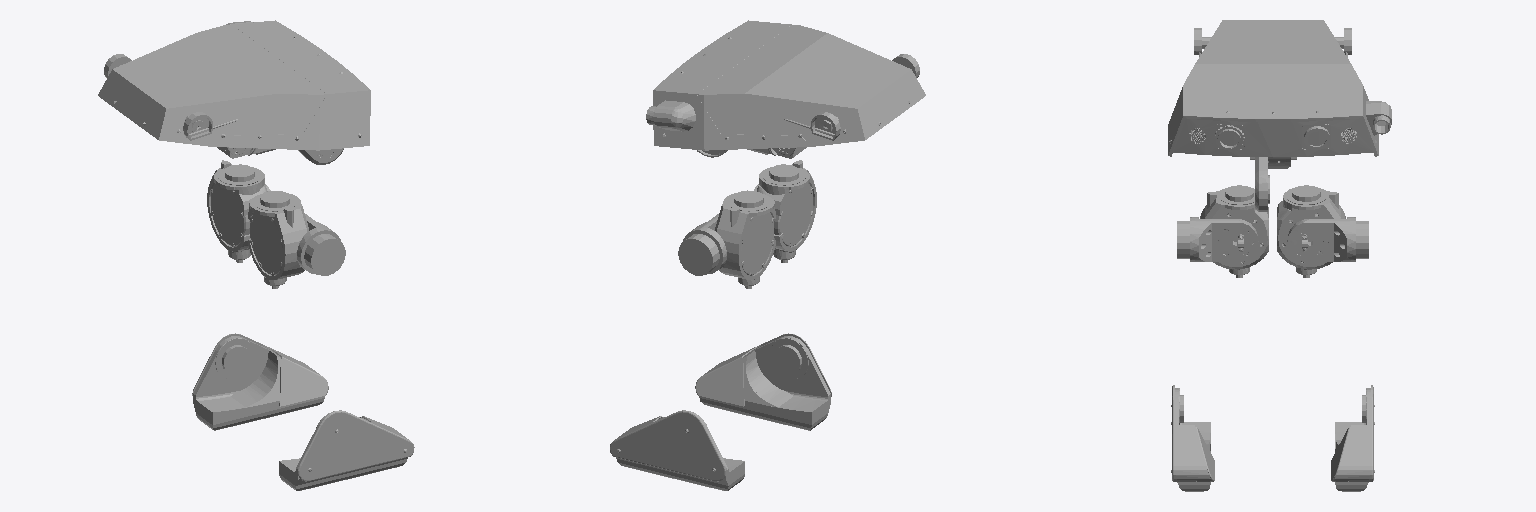
URDF robot description (BD-XURDFJointsFixed):
<?xml version="1.0" ?>
<!-- =================================================================================== -->
<!-- |    This document was autogenerated by xacro from [local-path]/Documents/Droids/BD-X/A1/dev/BD-XURDFJointsFixed_description/urdf/BD-XURDFJointsFixed.xacro | -->
<!-- |    EDITING THIS FILE BY HAND IS NOT RECOMMENDED                                 | -->
<!-- =================================================================================== -->
<robot xmlns:xacro="http://www.ros.org/wiki/xacro" name="BD-XURDFJointsFixed">
  <material name="silver">
    <color rgba="0.700 0.700 0.700 1"/>
  </material>
  <link name="body">
    <inertial>
      <origin xyz="0.0 0.0 0.0" rpy="0 0 0"/>
      <mass value="0.0"/>
      <inertia ixx="0.0" iyy="0.0" izz="0.0" ixy="0.0" iyz="0.0" ixz="0.0"/>
    </inertial>
    <visual>
      <origin xyz="0 0 0" rpy="0 0 0"/>
      <geometry>
        <mesh filename="../meshes/body.stl" scale="0.001 0.001 0.001"/>
      </geometry>
      <material name="silver"/>
    </visual>
    <collision>
      <origin xyz="0 0 0" rpy="0 0 0"/>
      <geometry>
        <mesh filename="../meshes/body.stl" scale="0.001 0.001 0.001"/>
      </geometry>
    </collision>
  </link>
  <link name="left_foot">
    <inertial>
      <origin xyz="-0.123984 0.04078 0.307694" rpy="0 0 0"/>
      <mass value="0.0"/>
      <inertia ixx="0.0" iyy="0.0" izz="0.0" ixy="0.0" iyz="0.0" ixz="0.0"/>
    </inertial>
    <visual>
      <origin xyz="-0.123984 0.04078 0.307694" rpy="0 0 0"/>
      <geometry>
        <mesh filename="../meshes/left_foot.stl" scale="0.001 0.001 0.001"/>
      </geometry>
      <material name="silver"/>
    </visual>
    <collision>
      <origin xyz="-0.123984 0.04078 0.307694" rpy="0 0 0"/>
      <geometry>
        <mesh filename="../meshes/left_foot.stl" scale="0.001 0.001 0.001"/>
      </geometry>
    </collision>
  </link>
  <link name="left_lower_leg">
    <inertial>
      <origin xyz="-0.133451 0.030006 0.170932" rpy="0 0 0"/>
      <mass value="0.0"/>
      <inertia ixx="0.0" iyy="0.0" izz="0.0" ixy="0.0" iyz="0.0" ixz="0.0"/>
    </inertial>
    <visual>
      <origin xyz="-0.133451 0.030006 0.170932" rpy="0 0 0"/>
      <geometry>
        <mesh filename="../meshes/left_lower_leg.stl" scale="0.001 0.001 0.001"/>
      </geometry>
      <material name="silver"/>
    </visual>
    <collision>
      <origin xyz="-0.133451 0.030006 0.170932" rpy="0 0 0"/>
      <geometry>
        <mesh filename="../meshes/left_lower_leg.stl" scale="0.001 0.001 0.001"/>
      </geometry>
    </collision>
  </link>
  <link name="left_upper_leg">
    <inertial>
      <origin xyz="-0.133451 0.030679 0.052423" rpy="0 0 0"/>
      <mass value="0.0"/>
      <inertia ixx="0.0" iyy="0.0" izz="0.0" ixy="0.0" iyz="0.0" ixz="0.0"/>
    </inertial>
    <visual>
      <origin xyz="-0.133451 0.030679 0.052423" rpy="0 0 0"/>
      <geometry>
        <mesh filename="../meshes/left_upper_leg.stl" scale="0.001 0.001 0.001"/>
      </geometry>
      <material name="silver"/>
    </visual>
    <collision>
      <origin xyz="-0.133451 0.030679 0.052423" rpy="0 0 0"/>
      <geometry>
        <mesh filename="../meshes/left_upper_leg.stl" scale="0.001 0.001 0.001"/>
      </geometry>
    </collision>
  </link>
  <link name="left_hip">
    <inertial>
      <origin xyz="-0.051563 0.01127 0.052423" rpy="0 0 0"/>
      <mass value="0.0"/>
      <inertia ixx="0.0" iyy="0.0" izz="0.0" ixy="0.0" iyz="0.0" ixz="0.0"/>
    </inertial>
    <visual>
      <origin xyz="-0.051563 0.01127 0.052423" rpy="0 0 0"/>
      <geometry>
        <mesh filename="../meshes/left_hip.stl" scale="0.001 0.001 0.001"/>
      </geometry>
      <material name="silver"/>
    </visual>
    <collision>
      <origin xyz="-0.051563 0.01127 0.052423" rpy="0 0 0"/>
      <geometry>
        <mesh filename="../meshes/left_hip.stl" scale="0.001 0.001 0.001"/>
      </geometry>
    </collision>
  </link>
  <link name="left_hip_rotation">
    <inertial>
      <origin xyz="-0.04661 0.0 -0.0072" rpy="0 0 0"/>
      <mass value="0.0"/>
      <inertia ixx="0.0" iyy="0.0" izz="0.0" ixy="0.0" iyz="0.0" ixz="0.0"/>
    </inertial>
    <visual>
      <origin xyz="-0.04661 0.0 -0.0072" rpy="0 0 0"/>
      <geometry>
        <mesh filename="../meshes/left_hip_rotation.stl" scale="0.001 0.001 0.001"/>
      </geometry>
      <material name="silver"/>
    </visual>
    <collision>
      <origin xyz="-0.04661 0.0 -0.0072" rpy="0 0 0"/>
      <geometry>
        <mesh filename="../meshes/left_hip_rotation.stl" scale="0.001 0.001 0.001"/>
      </geometry>
    </collision>
  </link>
  <link name="right_foot_pad">
    <inertial>
      <origin xyz="0.108832 -0.017801 0.36953" rpy="0 0 0"/>
      <mass value="0.0"/>
      <inertia ixx="0.0" iyy="0.0" izz="0.0" ixy="0.0" iyz="0.0" ixz="0.0"/>
    </inertial>
    <visual>
      <origin xyz="0.108832 -0.017801 0.36953" rpy="0 0 0"/>
      <geometry>
        <mesh filename="../meshes/right_foot_pad.stl" scale="0.001 0.001 0.001"/>
      </geometry>
      <material name="silver"/>
    </visual>
    <collision>
      <origin xyz="0.108832 -0.017801 0.36953" rpy="0 0 0"/>
      <geometry>
        <mesh filename="../meshes/right_foot_pad.stl" scale="0.001 0.001 0.001"/>
      </geometry>
    </collision>
  </link>
  <link name="right_foot">
    <inertial>
      <origin xyz="0.123858 0.040772 0.307694" rpy="0 0 0"/>
      <mass value="0.0"/>
      <inertia ixx="0.0" iyy="0.0" izz="0.0" ixy="0.0" iyz="0.0" ixz="0.0"/>
    </inertial>
    <visual>
      <origin xyz="0.123858 0.040772 0.307694" rpy="0 0 0"/>
      <geometry>
        <mesh filename="../meshes/right_foot.stl" scale="0.001 0.001 0.001"/>
      </geometry>
      <material name="silver"/>
    </visual>
    <collision>
      <origin xyz="0.123858 0.040772 0.307694" rpy="0 0 0"/>
      <geometry>
        <mesh filename="../meshes/right_foot.stl" scale="0.001 0.001 0.001"/>
      </geometry>
    </collision>
  </link>
  <link name="right_lower_leg">
    <inertial>
      <origin xyz="0.133325 0.029997 0.170933" rpy="0 0 0"/>
      <mass value="0.0"/>
      <inertia ixx="0.0" iyy="0.0" izz="0.0" ixy="0.0" iyz="0.0" ixz="0.0"/>
    </inertial>
    <visual>
      <origin xyz="0.133325 0.029997 0.170933" rpy="0 0 0"/>
      <geometry>
        <mesh filename="../meshes/right_lower_leg.stl" scale="0.001 0.001 0.001"/>
      </geometry>
      <material name="silver"/>
    </visual>
    <collision>
      <origin xyz="0.133325 0.029997 0.170933" rpy="0 0 0"/>
      <geometry>
        <mesh filename="../meshes/right_lower_leg.stl" scale="0.001 0.001 0.001"/>
      </geometry>
    </collision>
  </link>
  <link name="right_upper_leg">
    <inertial>
      <origin xyz="0.133325 0.030671 0.052423" rpy="0 0 0"/>
      <mass value="0.0"/>
      <inertia ixx="0.0" iyy="0.0" izz="0.0" ixy="0.0" iyz="0.0" ixz="0.0"/>
    </inertial>
    <visual>
      <origin xyz="0.133325 0.030671 0.052423" rpy="0 0 0"/>
      <geometry>
        <mesh filename="../meshes/right_upper_leg.stl" scale="0.001 0.001 0.001"/>
      </geometry>
      <material name="silver"/>
    </visual>
    <collision>
      <origin xyz="0.133325 0.030671 0.052423" rpy="0 0 0"/>
      <geometry>
        <mesh filename="../meshes/right_upper_leg.stl" scale="0.001 0.001 0.001"/>
      </geometry>
    </collision>
  </link>
  <link name="right_hip_rotation">
    <inertial>
      <origin xyz="0.046484 -9e-06 -0.0072" rpy="0 0 0"/>
      <mass value="0.0"/>
      <inertia ixx="0.0" iyy="0.0" izz="0.0" ixy="0.0" iyz="0.0" ixz="0.0"/>
    </inertial>
    <visual>
      <origin xyz="0.046484 -9e-06 -0.0072" rpy="0 0 0"/>
      <geometry>
        <mesh filename="../meshes/right_hip_rotation.stl" scale="0.001 0.001 0.001"/>
      </geometry>
      <material name="silver"/>
    </visual>
    <collision>
      <origin xyz="0.046484 -9e-06 -0.0072" rpy="0 0 0"/>
      <geometry>
        <mesh filename="../meshes/right_hip_rotation.stl" scale="0.001 0.001 0.001"/>
      </geometry>
    </collision>
  </link>
  <link name="head">
    <inertial>
      <origin xyz="-0.000399 0.011817 -0.119918" rpy="0 0 0"/>
      <mass value="0.0"/>
      <inertia ixx="0.0" iyy="0.0" izz="0.0" ixy="0.0" iyz="0.0" ixz="0.0"/>
    </inertial>
    <visual>
      <origin xyz="-0.000399 0.011817 -0.119918" rpy="0 0 0"/>
      <geometry>
        <mesh filename="../meshes/head.stl" scale="0.001 0.001 0.001"/>
      </geometry>
      <material name="silver"/>
    </visual>
    <collision>
      <origin xyz="-0.000399 0.011817 -0.119918" rpy="0 0 0"/>
      <geometry>
        <mesh filename="../meshes/head.stl" scale="0.001 0.001 0.001"/>
      </geometry>
    </collision>
  </link>
  <link name="neck_yaw">
    <inertial>
      <origin xyz="-0.000409 -0.042623 -0.113535" rpy="0 0 0"/>
      <mass value="0.0"/>
      <inertia ixx="0.0" iyy="0.0" izz="0.0" ixy="0.0" iyz="0.0" ixz="0.0"/>
    </inertial>
    <visual>
      <origin xyz="-0.000409 -0.042623 -0.113535" rpy="0 0 0"/>
      <geometry>
        <mesh filename="../meshes/neck_yaw.stl" scale="0.001 0.001 0.001"/>
      </geometry>
      <material name="silver"/>
    </visual>
    <collision>
      <origin xyz="-0.000409 -0.042623 -0.113535" rpy="0 0 0"/>
      <geometry>
        <mesh filename="../meshes/neck_yaw.stl" scale="0.001 0.001 0.001"/>
      </geometry>
    </collision>
  </link>
  <link name="neck_pitch">
    <inertial>
      <origin xyz="-0.000516 -0.039802 -0.081652" rpy="0 0 0"/>
      <mass value="0.0"/>
      <inertia ixx="0.0" iyy="0.0" izz="0.0" ixy="0.0" iyz="0.0" ixz="0.0"/>
    </inertial>
    <visual>
      <origin xyz="-0.000516 -0.039802 -0.081652" rpy="0 0 0"/>
      <geometry>
        <mesh filename="../meshes/neck_pitch.stl" scale="0.001 0.001 0.001"/>
      </geometry>
      <material name="silver"/>
    </visual>
    <collision>
      <origin xyz="-0.000516 -0.039802 -0.081652" rpy="0 0 0"/>
      <geometry>
        <mesh filename="../meshes/neck_pitch.stl" scale="0.001 0.001 0.001"/>
      </geometry>
    </collision>
  </link>
  <link name="neck_extension">
    <inertial>
      <origin xyz="0.00375 0.092558 -0.053208" rpy="0 0 0"/>
      <mass value="0.0"/>
      <inertia ixx="0.0" iyy="0.0" izz="0.0" ixy="0.0" iyz="0.0" ixz="0.0"/>
    </inertial>
    <visual>
      <origin xyz="0.00375 0.092558 -0.053208" rpy="0 0 0"/>
      <geometry>
        <mesh filename="../meshes/neck_extension.stl" scale="0.001 0.001 0.001"/>
      </geometry>
      <material name="silver"/>
    </visual>
    <collision>
      <origin xyz="0.00375 0.092558 -0.053208" rpy="0 0 0"/>
      <geometry>
        <mesh filename="../meshes/neck_extension.stl" scale="0.001 0.001 0.001"/>
      </geometry>
    </collision>
  </link>
  <link name="left_antenna">
    <inertial>
      <origin xyz="-0.078948 -0.14933 -0.165789" rpy="0 0 0"/>
      <mass value="0.0"/>
      <inertia ixx="0.0" iyy="0.0" izz="0.0" ixy="0.0" iyz="0.0" ixz="0.0"/>
    </inertial>
    <visual>
      <origin xyz="-0.078948 -0.14933 -0.165789" rpy="0 0 0"/>
      <geometry>
        <mesh filename="../meshes/left_antenna.stl" scale="0.001 0.001 0.001"/>
      </geometry>
      <material name="silver"/>
    </visual>
    <collision>
      <origin xyz="-0.078948 -0.14933 -0.165789" rpy="0 0 0"/>
      <geometry>
        <mesh filename="../meshes/left_antenna.stl" scale="0.001 0.001 0.001"/>
      </geometry>
    </collision>
  </link>
  <link name="right_antenna">
    <inertial>
      <origin xyz="0.078151 -0.14933 -0.165789" rpy="0 0 0"/>
      <mass value="0.0"/>
      <inertia ixx="0.0" iyy="0.0" izz="0.0" ixy="0.0" iyz="0.0" ixz="0.0"/>
    </inertial>
    <visual>
      <origin xyz="0.078151 -0.14933 -0.165789" rpy="0 0 0"/>
      <geometry>
        <mesh filename="../meshes/right_antenna.stl" scale="0.001 0.001 0.001"/>
      </geometry>
      <material name="silver"/>
    </visual>
    <collision>
      <origin xyz="0.078151 -0.14933 -0.165789" rpy="0 0 0"/>
      <geometry>
        <mesh filename="../meshes/right_antenna.stl" scale="0.001 0.001 0.001"/>
      </geometry>
    </collision>
  </link>
  <link name="left_foot_pad">
    <inertial>
      <origin xyz="-0.108959 -0.017792 0.36953" rpy="0 0 0"/>
      <mass value="0.0"/>
      <inertia ixx="0.0" iyy="0.0" izz="0.0" ixy="0.0" iyz="0.0" ixz="0.0"/>
    </inertial>
    <visual>
      <origin xyz="-0.108959 -0.017792 0.36953" rpy="0 0 0"/>
      <geometry>
        <mesh filename="../meshes/left_foot_pad.stl" scale="0.001 0.001 0.001"/>
      </geometry>
      <material name="silver"/>
    </visual>
    <collision>
      <origin xyz="-0.108959 -0.017792 0.36953" rpy="0 0 0"/>
      <geometry>
        <mesh filename="../meshes/left_foot_pad.stl" scale="0.001 0.001 0.001"/>
      </geometry>
    </collision>
  </link>
  <link name="right_hip">
    <inertial>
      <origin xyz="0.051436 0.011261 0.052423" rpy="0 0 0"/>
      <mass value="0.0"/>
      <inertia ixx="0.0" iyy="0.0" izz="0.0" ixy="0.0" iyz="0.0" ixz="0.0"/>
    </inertial>
    <visual>
      <origin xyz="0.051436 0.011261 0.052423" rpy="0 0 0"/>
      <geometry>
        <mesh filename="../meshes/right_hip.stl" scale="0.001 0.001 0.001"/>
      </geometry>
      <material name="silver"/>
    </visual>
    <collision>
      <origin xyz="0.051436 0.011261 0.052423" rpy="0 0 0"/>
      <geometry>
        <mesh filename="../meshes/right_hip.stl" scale="0.001 0.001 0.001"/>
      </geometry>
    </collision>
  </link>
  <joint name="left_ankle" type="revolute">
    <origin xyz="-0.009467 -0.010774 -0.136762" rpy="0 0 0"/>
    <parent link="left_lower_leg"/>
    <child link="left_foot"/>
    <axis xyz="1.0 -0.0 0.0"/>
    <limit upper="0.0" lower="0.0" effort="100.0" velocity="100.0"/>
  </joint>
  <joint name="left_knee" type="revolute">
    <origin xyz="0.0 0.000673 -0.118509" rpy="0 0 0"/>
    <parent link="left_upper_leg"/>
    <child link="left_lower_leg"/>
    <axis xyz="-1.0 -0.0 0.0"/>
    <limit upper="0.0" lower="0.0" effort="100.0" velocity="100.0"/>
  </joint>
  <joint name="left_hip_pitch" type="revolute">
    <origin xyz="0.081888 -0.019409 0.0" rpy="0 0 0"/>
    <parent link="left_hip"/>
    <child link="left_upper_leg"/>
    <axis xyz="1.0 0.0 -0.0"/>
    <limit upper="0.0" lower="0.0" effort="100.0" velocity="100.0"/>
  </joint>
  <joint name="left_hip_roll" type="revolute">
    <origin xyz="0.004953 -0.01127 -0.059623" rpy="0 0 0"/>
    <parent link="left_hip_rotation"/>
    <child link="left_hip"/>
    <axis xyz="0.0 -1.0 0.0"/>
    <limit upper="0.0" lower="0.0" effort="100.0" velocity="100.0"/>
  </joint>
  <joint name="left_hip_yaw" type="revolute">
    <origin xyz="0.04661 0.0 0.0072" rpy="0 0 0"/>
    <parent link="body"/>
    <child link="left_hip_rotation"/>
    <axis xyz="0.0 0.0 -1.0"/>
    <limit upper="0.0" lower="0.0" effort="100.0" velocity="100.0"/>
  </joint>
  <joint name="right_foot_pad" type="fixed">
    <origin xyz="0.015026 0.058573 -0.061836" rpy="0 0 0"/>
    <parent link="right_foot"/>
    <child link="right_foot_pad"/>
    <axis xyz="0 0 0"/>
  </joint>
  <joint name="right_ankle" type="revolute">
    <origin xyz="0.009467 -0.010775 -0.136761" rpy="0 0 0"/>
    <parent link="right_lower_leg"/>
    <child link="right_foot"/>
    <axis xyz="-1.0 -0.0 0.0"/>
    <limit upper="0.0" lower="0.0" effort="100.0" velocity="100.0"/>
  </joint>
  <joint name="right_knee" type="revolute">
    <origin xyz="0.0 0.000674 -0.11851" rpy="0 0 0"/>
    <parent link="right_upper_leg"/>
    <child link="right_lower_leg"/>
    <axis xyz="1.0 0.0 0.0"/>
    <limit upper="0.0" lower="0.0" effort="100.0" velocity="100.0"/>
  </joint>
  <joint name="right_hip_pitch" type="revolute">
    <origin xyz="-0.081889 -0.01941 0.0" rpy="0 0 0"/>
    <parent link="right_hip"/>
    <child link="right_upper_leg"/>
    <axis xyz="-1.0 -0.0 -0.0"/>
    <limit upper="0.0" lower="0.0" effort="100.0" velocity="100.0"/>
  </joint>
  <joint name="right_hip_yaw" type="revolute">
    <origin xyz="-0.046484 9e-06 0.0072" rpy="0 0 0"/>
    <parent link="body"/>
    <child link="right_hip_rotation"/>
    <axis xyz="0.0 0.0 -1.0"/>
    <limit upper="0.0" lower="0.0" effort="100.0" velocity="100.0"/>
  </joint>
  <joint name="head_roll" type="revolute">
    <origin xyz="-1e-05 -0.05444 0.006383" rpy="0 0 0"/>
    <parent link="neck_yaw"/>
    <child link="head"/>
    <axis xyz="0.0 -0.989598 -0.143861"/>
    <limit upper="0.0" lower="0.0" effort="100.0" velocity="100.0"/>
  </joint>
  <joint name="head_yaw" type="revolute">
    <origin xyz="-0.000107 0.002821 0.031883" rpy="0 0 0"/>
    <parent link="neck_pitch"/>
    <child link="neck_yaw"/>
    <axis xyz="-0.0 -0.143861 0.989598"/>
    <limit upper="0.0" lower="0.0" effort="100.0" velocity="100.0"/>
  </joint>
  <joint name="head_pitch" type="revolute">
    <origin xyz="0.004266 0.13236 0.028444" rpy="0 0 0"/>
    <parent link="neck_extension"/>
    <child link="neck_pitch"/>
    <axis xyz="-1.0 -0.0 -0.0"/>
    <limit upper="0.0" lower="0.0" effort="100.0" velocity="100.0"/>
  </joint>
  <joint name="neck_pitch" type="revolute">
    <origin xyz="-0.00375 -0.092558 0.053208" rpy="0 0 0"/>
    <parent link="body"/>
    <child link="neck_extension"/>
    <axis xyz="-1.0 0.0 0.0"/>
    <limit upper="0.0" lower="0.0" effort="100.0" velocity="100.0"/>
  </joint>
  <joint name="left_antenna" type="revolute">
    <origin xyz="0.078549 0.161147 0.045871" rpy="0 0 0"/>
    <parent link="head"/>
    <child link="left_antenna"/>
    <axis xyz="1.0 -0.0 0.0"/>
    <limit upper="0.0" lower="0.0" effort="100.0" velocity="100.0"/>
  </joint>
  <joint name="right_antenna" type="revolute">
    <origin xyz="-0.07855 0.161147 0.045871" rpy="0 0 0"/>
    <parent link="head"/>
    <child link="right_antenna"/>
    <axis xyz="-1.0 -0.0 -0.0"/>
    <limit upper="0.0" lower="0.0" effort="100.0" velocity="100.0"/>
  </joint>
  <joint name="left_foot_pad" type="fixed">
    <origin xyz="-0.015025 0.058572 -0.061836" rpy="0 0 0"/>
    <parent link="left_foot"/>
    <child link="left_foot_pad"/>
    <axis xyz="0 0 0"/>
  </joint>
  <joint name="right_hip_roll" type="revolute">
    <origin xyz="-0.004952 -0.01127 -0.059623" rpy="0 0 0"/>
    <parent link="right_hip_rotation"/>
    <child link="right_hip"/>
    <axis xyz="-0.0 -1.0 0.0"/>
    <limit upper="0.0" lower="0.0" effort="100.0" velocity="100.0"/>
  </joint>
</robot>

--- Facts derived from the render (not from the file) ---
Views: 3 orthographic renders of the robot side by side, from view 1: azimuth 30°, elevation 25°; view 2: azimuth 150°, elevation 25°; view 3: azimuth 270°, elevation 25°.
Model BD-XURDFJointsFixed with 19 links and 18 joints (16 revolute, 2 fixed), rooted at body, posed every joint at zero.
Visible links, largest first — view 1: head, left_foot, right_foot, right_hip_rotation, left_hip_rotation, right_hip, left_foot_pad, right_foot_pad, neck_extension, right_antenna; view 2: head, right_foot, left_foot, left_hip_rotation, right_hip_rotation, left_hip, right_foot_pad, left_foot_pad, left_antenna; view 3: head, left_hip, right_hip, right_foot, left_foot, left_hip_rotation, right_hip_rotation, neck_extension.
Boxes of the visible links, box(x1,y1,x2,y2) form: head: box(98, 20, 370, 150); left_foot: box(192, 333, 328, 424); right_foot: box(279, 410, 414, 485); right_hip_rotation: box(248, 191, 308, 288); left_hip_rotation: box(207, 160, 267, 262); right_hip: box(297, 214, 345, 275); left_foot_pad: box(196, 398, 324, 430); right_foot_pad: box(279, 459, 406, 490); neck_extension: box(217, 147, 343, 164); right_antenna: box(183, 112, 238, 140); head: box(646, 20, 925, 150); right_foot: box(695, 333, 831, 424); left_foot: box(610, 410, 744, 485); left_hip_rotation: box(715, 190, 775, 288); right_hip_rotation: box(757, 160, 816, 262); left_hip: box(678, 214, 726, 275); right_foot_pad: box(700, 398, 827, 430); left_foot_pad: box(617, 459, 744, 490); left_antenna: box(784, 112, 840, 140); head: box(1168, 20, 1391, 156); left_hip: box(1287, 217, 1368, 261); right_hip: box(1177, 217, 1258, 261); right_foot: box(1171, 385, 1214, 484); left_foot: box(1331, 385, 1374, 484); left_hip_rotation: box(1277, 185, 1345, 277); right_hip_rotation: box(1200, 185, 1268, 277); neck_extension: box(1250, 157, 1296, 211).
Bounding box of the posed robot: 0.3538 × 0.312 × 0.5767 m (x, y, z).
Meshes: 19 distinct files referenced, 14 mesh visuals loaded (14 binary STL); not drawn: 5 (reference not matched to a file when rendering).